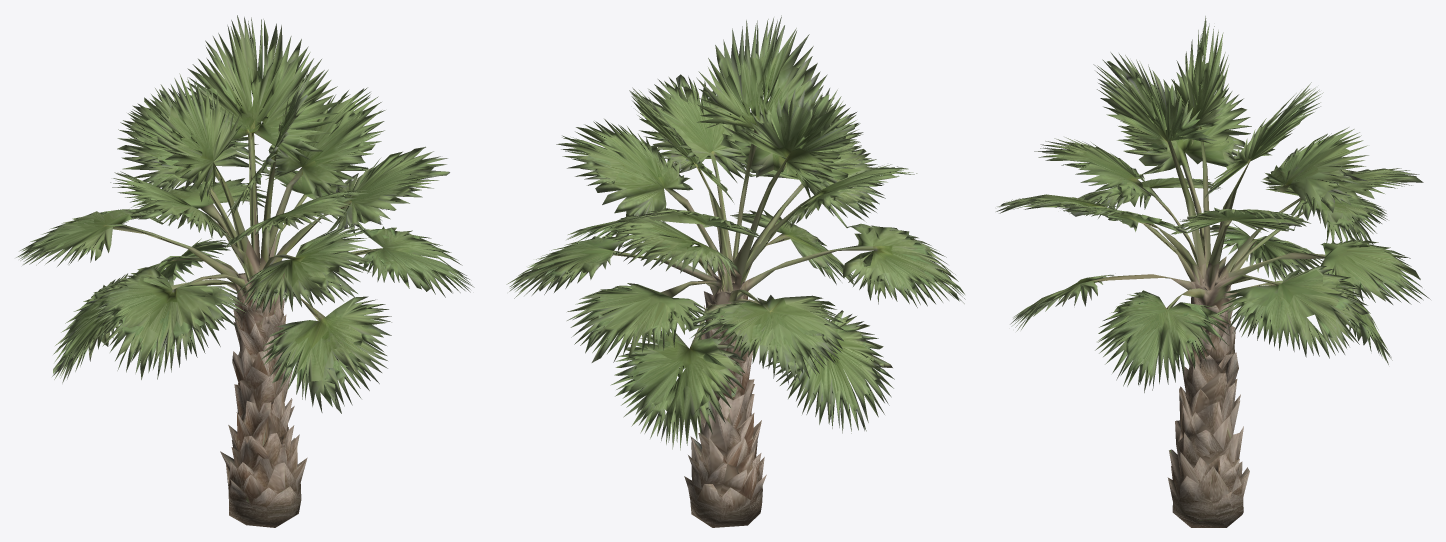
The model's file is dust_palm_1.fbx.
3 views of the same model, side by side, from view 1: azimuth 30°, elevation 25°; view 2: azimuth 150°, elevation 25°; view 3: azimuth 270°, elevation 25° (orthographic).
Parts seen in each view (by area): view 1: dust_palm_1.001; view 2: dust_palm_1.001; view 3: dust_palm_1.001.
Boxes of the visible parts, <box> form: dust_palm_1.001: <box>16,15,474,527</box>; dust_palm_1.001: <box>506,15,965,527</box>; dust_palm_1.001: <box>996,16,1430,527</box>.
Bounding box in the file's own units: 82087 × 84613 × 99014.
